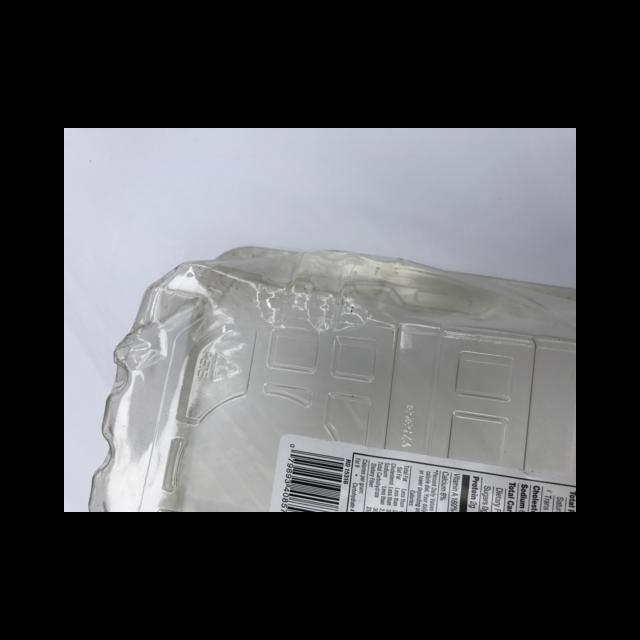plastic: (89, 246, 575, 511)
